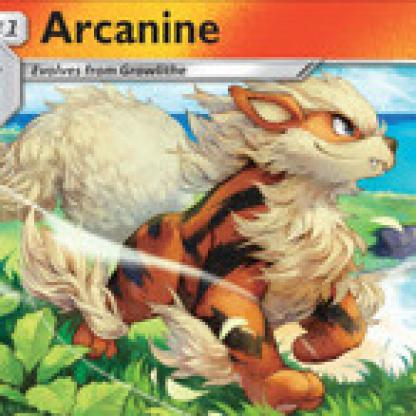Arcanine: (4, 78, 414, 414)
